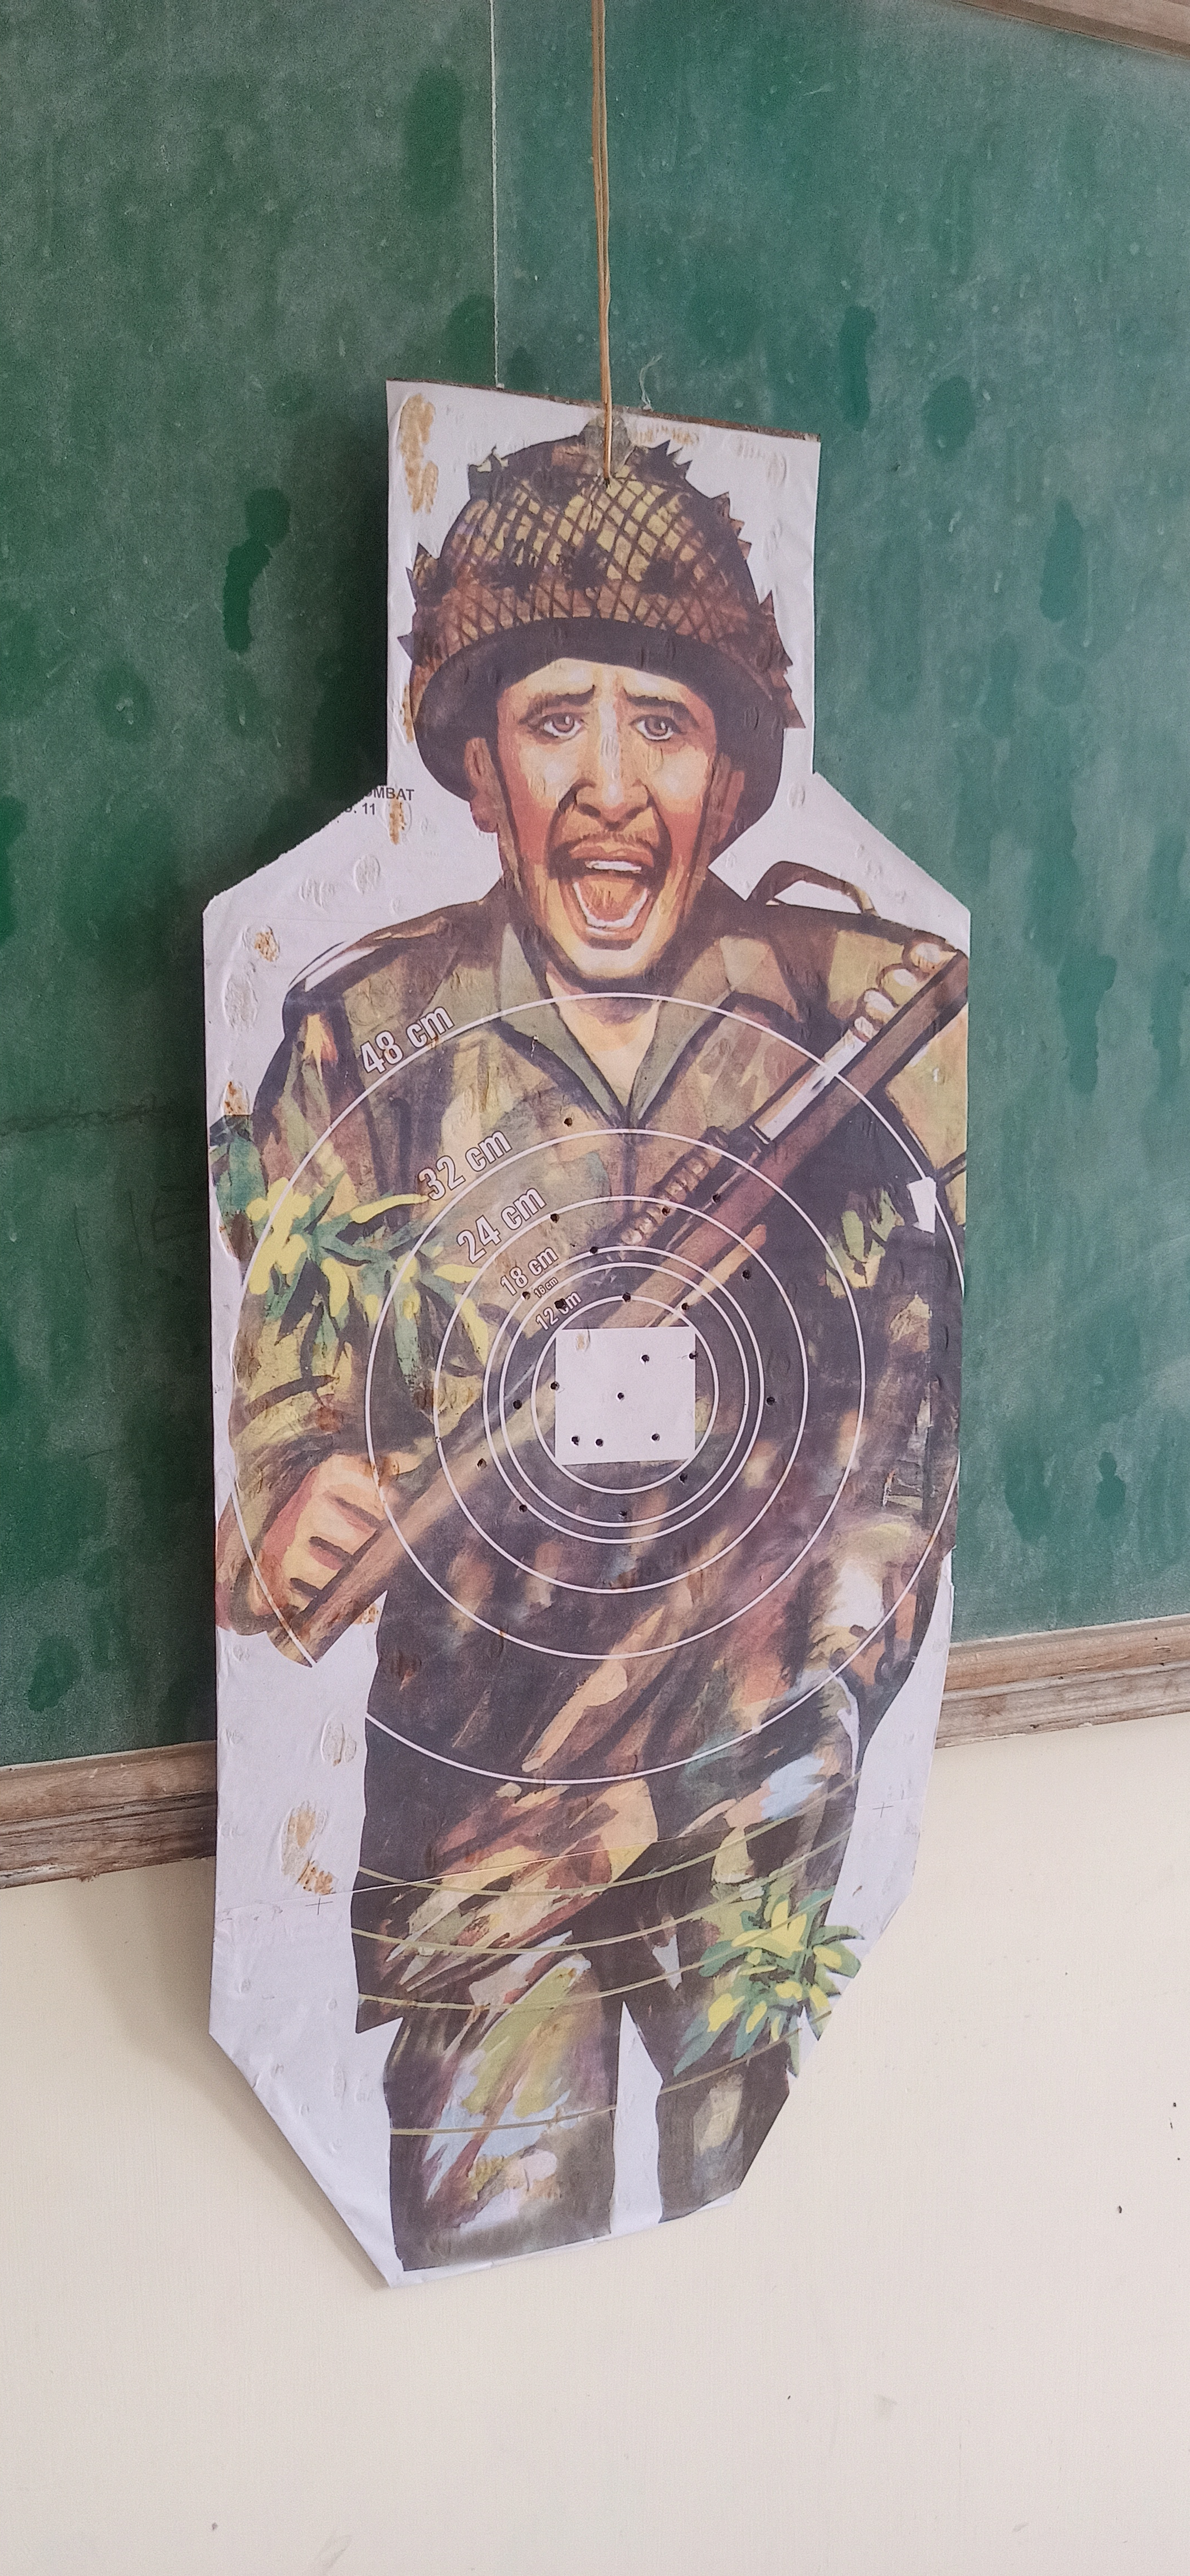bullet hit: (759, 1388, 782, 1411), (674, 1296, 699, 1318), (735, 1265, 758, 1285), (616, 1286, 636, 1309), (508, 1395, 528, 1414), (470, 1454, 490, 1474), (552, 1295, 570, 1316), (565, 1431, 585, 1449), (516, 1285, 536, 1303), (544, 1209, 565, 1226), (511, 1498, 529, 1516), (636, 1349, 654, 1367), (559, 1114, 579, 1130), (674, 1470, 694, 1487), (613, 1388, 630, 1406), (546, 1378, 562, 1396), (585, 1242, 602, 1258), (616, 1506, 633, 1523), (684, 1347, 700, 1364), (592, 1434, 608, 1451), (705, 1191, 723, 1206), (656, 1204, 674, 1219), (648, 1429, 662, 1447)
white box: (551, 1324, 700, 1465)
